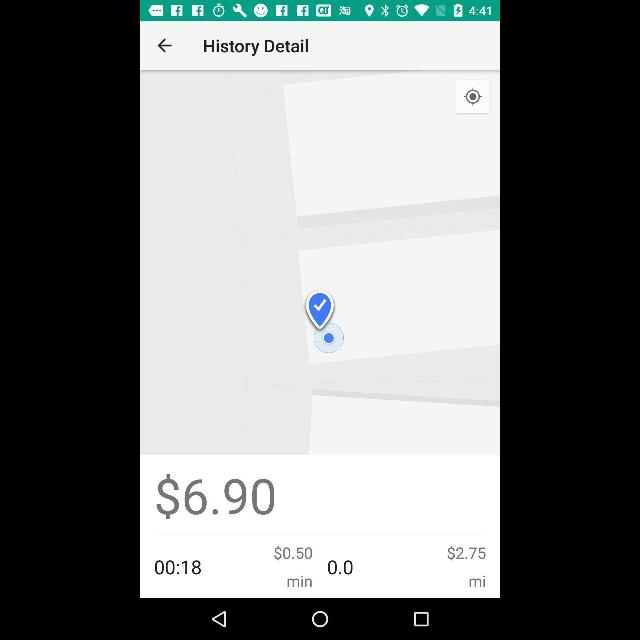icon: (464, 88, 482, 105), (312, 610, 328, 628), (212, 610, 226, 628), (158, 39, 172, 53), (414, 612, 428, 626)
map: (140, 72, 500, 454)
panel: (140, 598, 500, 640)
text: (158, 474, 274, 520), (205, 38, 308, 56), (155, 560, 201, 574), (448, 546, 486, 560), (276, 546, 312, 560), (328, 561, 352, 575), (288, 576, 312, 588), (469, 575, 485, 587)
uppertaskbar: (140, 0, 500, 20)
